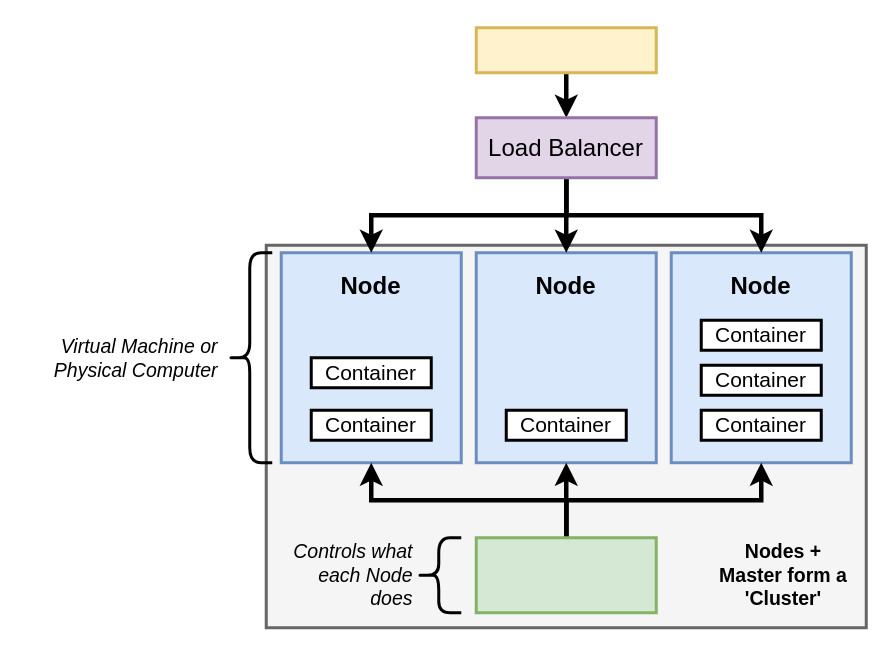
The diagram is 893 pixels wide and 654 high, and some of its shapes have lost their labels. The centre of each missing label's shape, as x and y in pixels:
"Master" belongs at pixel 565 575.
"Request" belongs at pixel 565 50.
